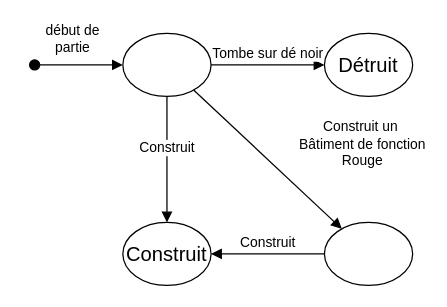
This 447x307 diagram has some shape labels left out. The centre of each missing label's shape, as x and y in pixels:
"Protégé" belongs at pixel 368 253.
"Vide" belongs at pixel 166 64.
